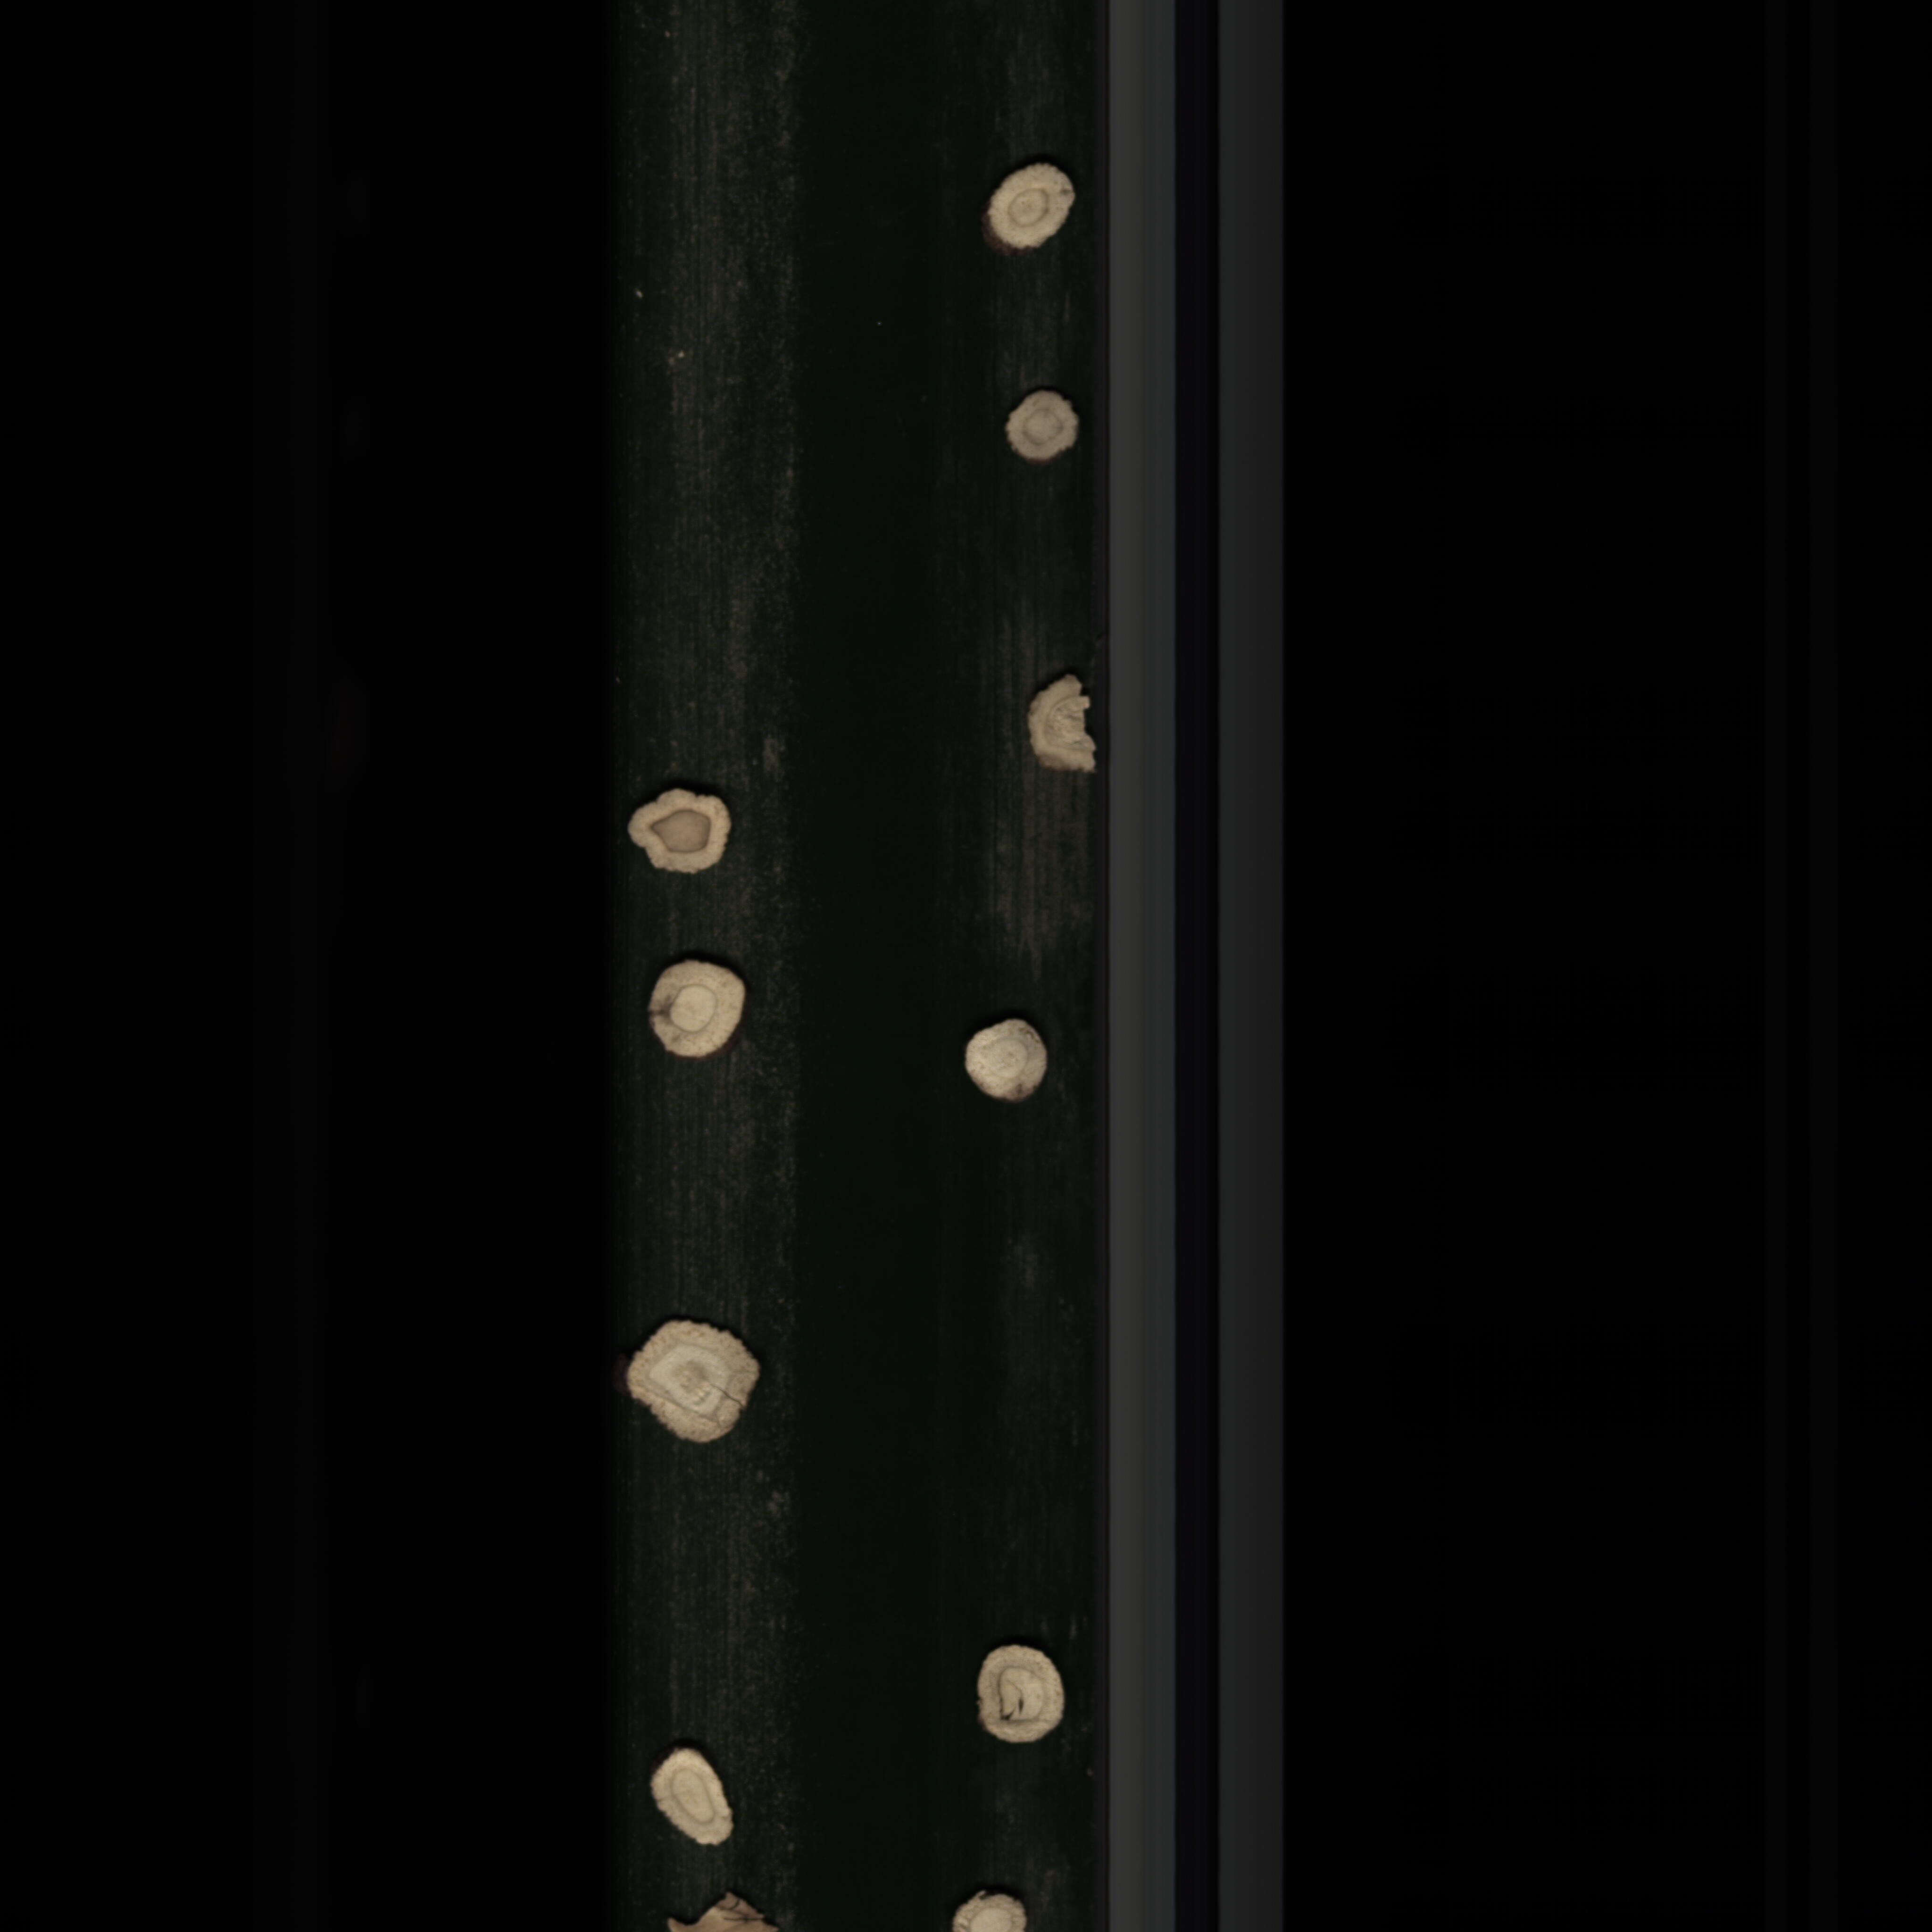debris: (1019, 671, 1104, 784)
moldy: (623, 789, 752, 881), (669, 1890, 789, 1930)
